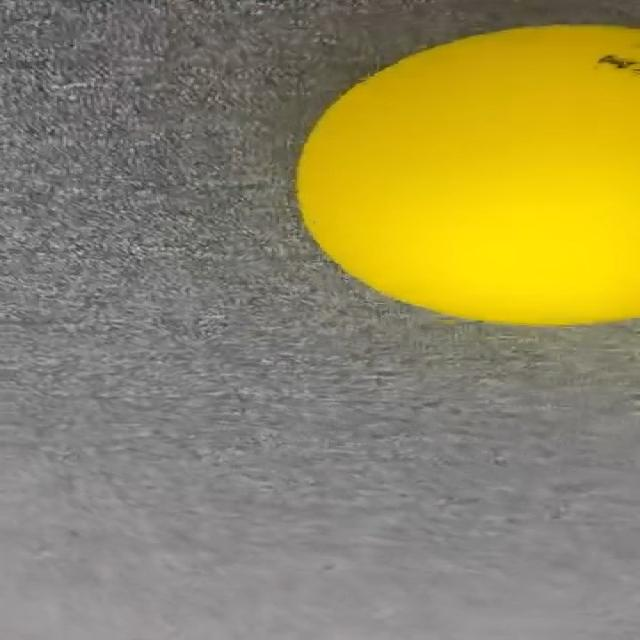Fuels: (293, 23, 640, 327)
